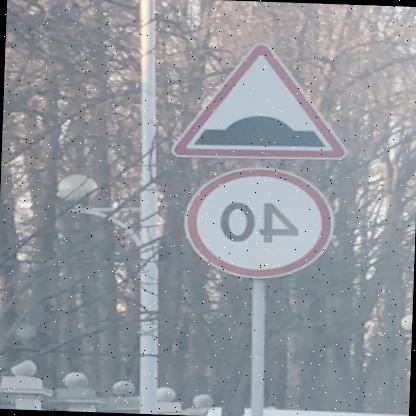speedlimit: (186, 164, 338, 280)
